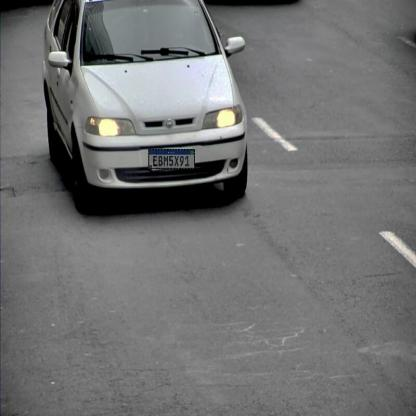PlacaM: (148, 149, 195, 169)
